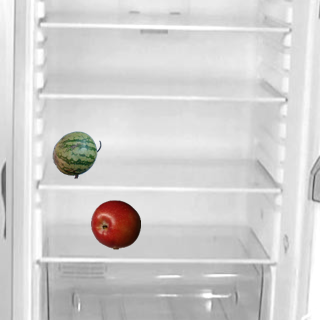Apple Braeburn: (90, 199, 140, 249)
Watermelon: (51, 129, 101, 179)
